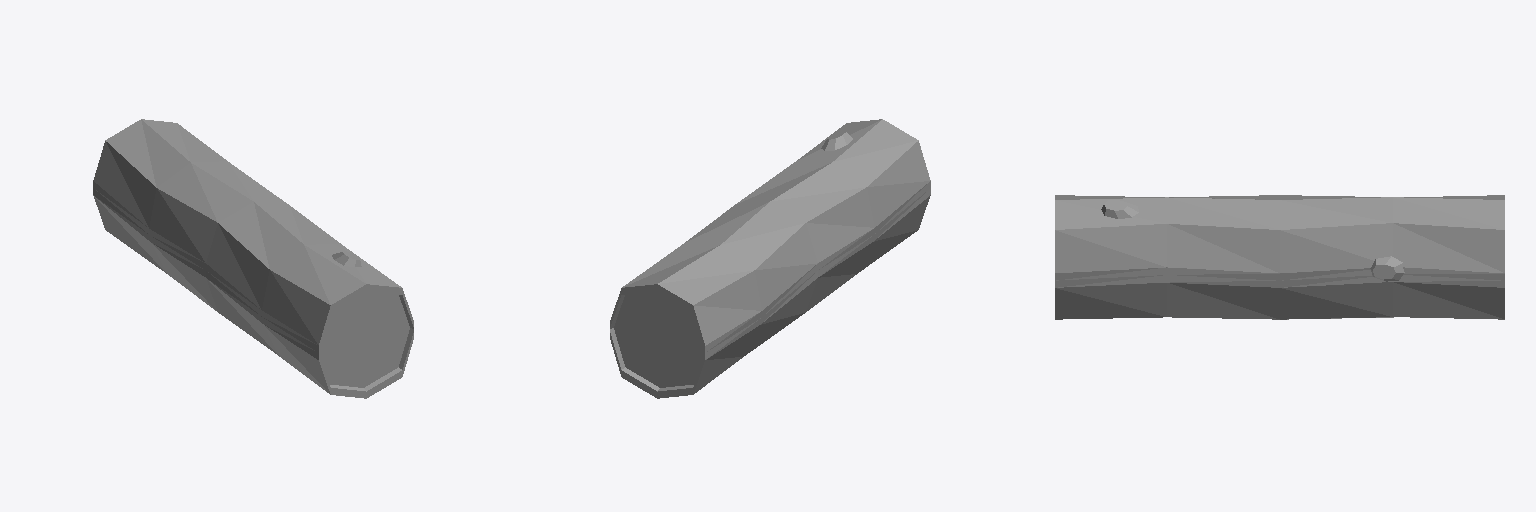
Rendered from log.obj.
The picture shows the model from 3 angles: view 1: azimuth 30°, elevation 25°; view 2: azimuth 150°, elevation 25°; view 3: azimuth 270°, elevation 25°; orthographic projection.
Parts seen in each view (by area): view 1: Plane; view 2: Plane; view 3: Plane.
Boxes of the visible parts, box(x1,y1,x2,y2) form: Plane: box(93, 119, 413, 398); Plane: box(610, 119, 930, 398); Plane: box(1055, 195, 1504, 319).
Size of the model in its own units: 1.46 by 1.65 by 5.66.